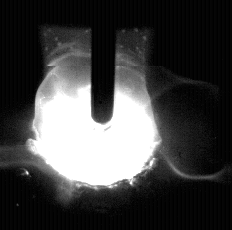arame: (92, 0, 115, 131)
poca: (34, 0, 160, 230)
